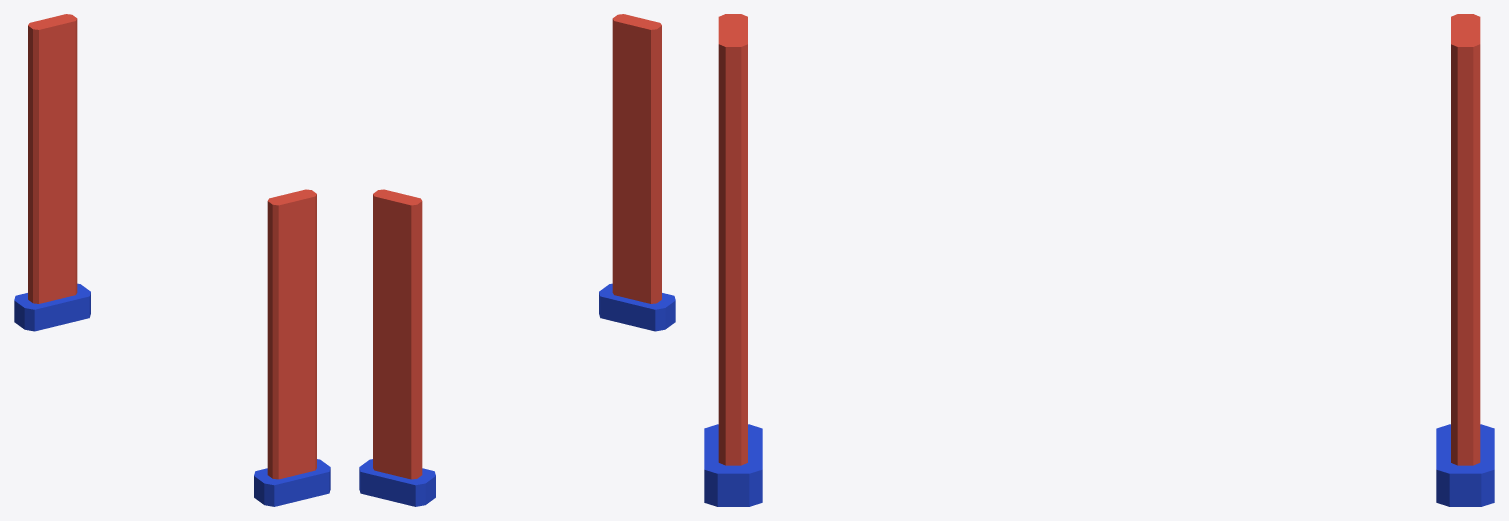
File: BridgePillarWithBaseFBX.fbx
3 renders of one model, left to right at view 1: azimuth 30°, elevation 25°; view 2: azimuth 150°, elevation 25°; view 3: azimuth 270°, elevation 25°, orthographic. The views are drawn at different scales.
Visible parts, largest first — view 1: BridgePillarWithBase; view 2: BridgePillarWithBase; view 3: BridgePillarWithBase.
Part boxes in pixels (<box>): BridgePillarWithBase: <box>14,14,330,506</box>; BridgePillarWithBase: <box>359,14,675,506</box>; BridgePillarWithBase: <box>704,14,1494,506</box>.
Bounding box in the file's own units: 12 × 51.06 × 81.
